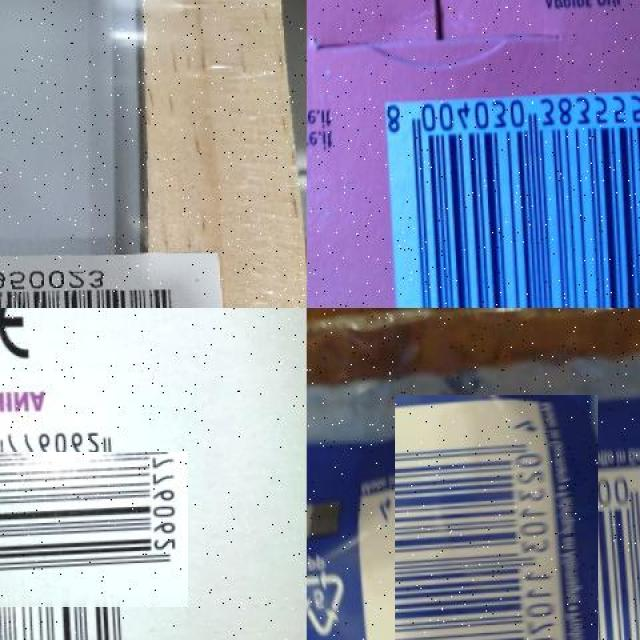Barcode: (385, 93, 640, 308), (374, 417, 618, 640), (0, 436, 172, 624), (0, 268, 188, 308)
